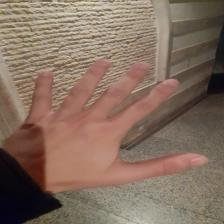five: (19, 58, 211, 196)
